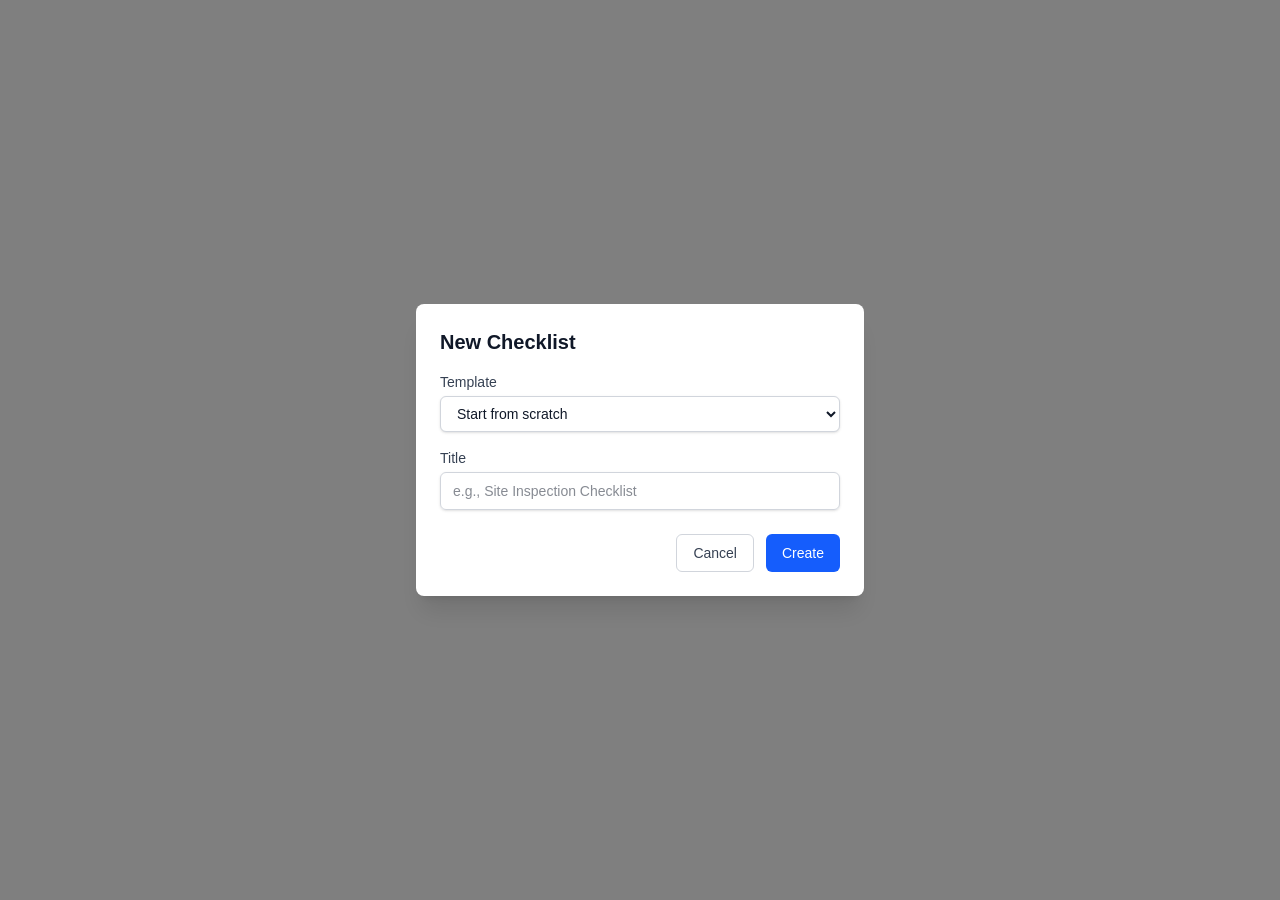
Test: CreateChecklistModal › Template selection › should auto-fill title when template is selected
Select "Safety Checklist" in the dropdown labelled "Template" at (640, 414), box [440,396,840,432]
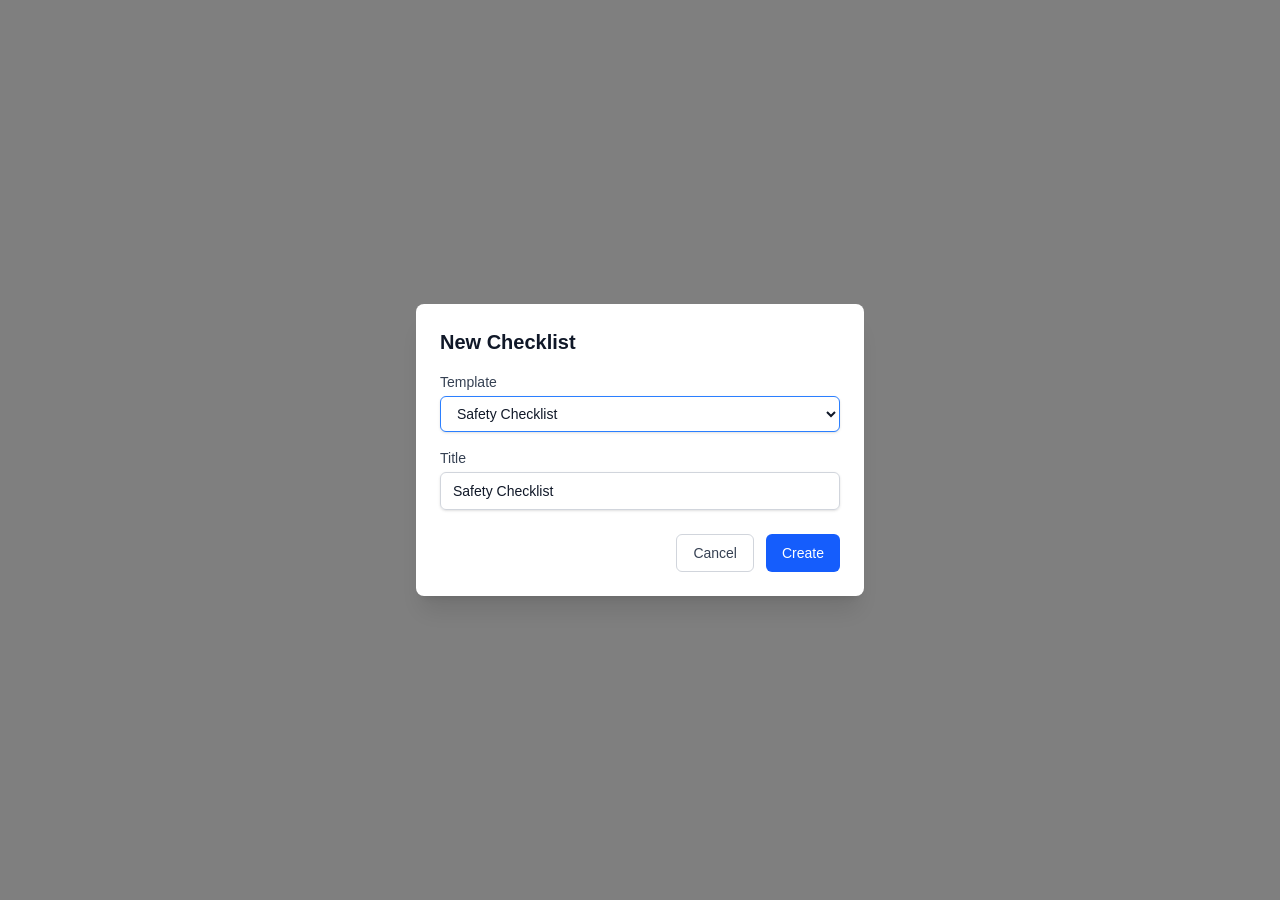
Result: the field labelled "Title" holds "Safety Checklist" at [440,472,840,510]
